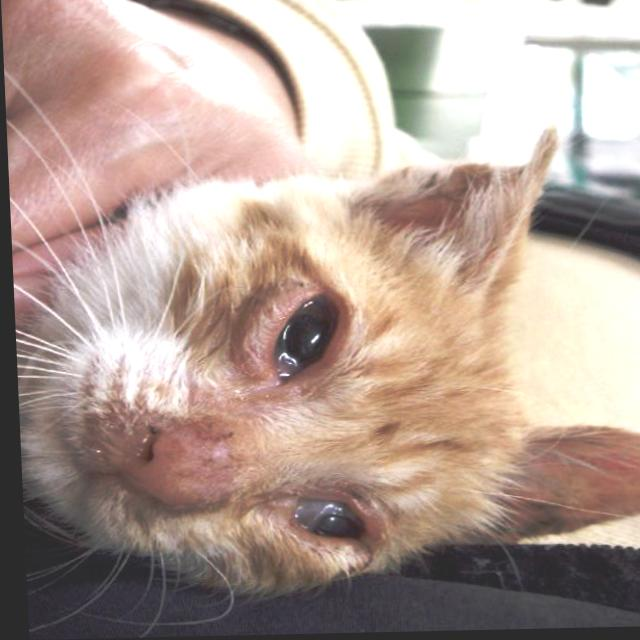eye_infection: (272, 293, 333, 383), (291, 499, 359, 541)
